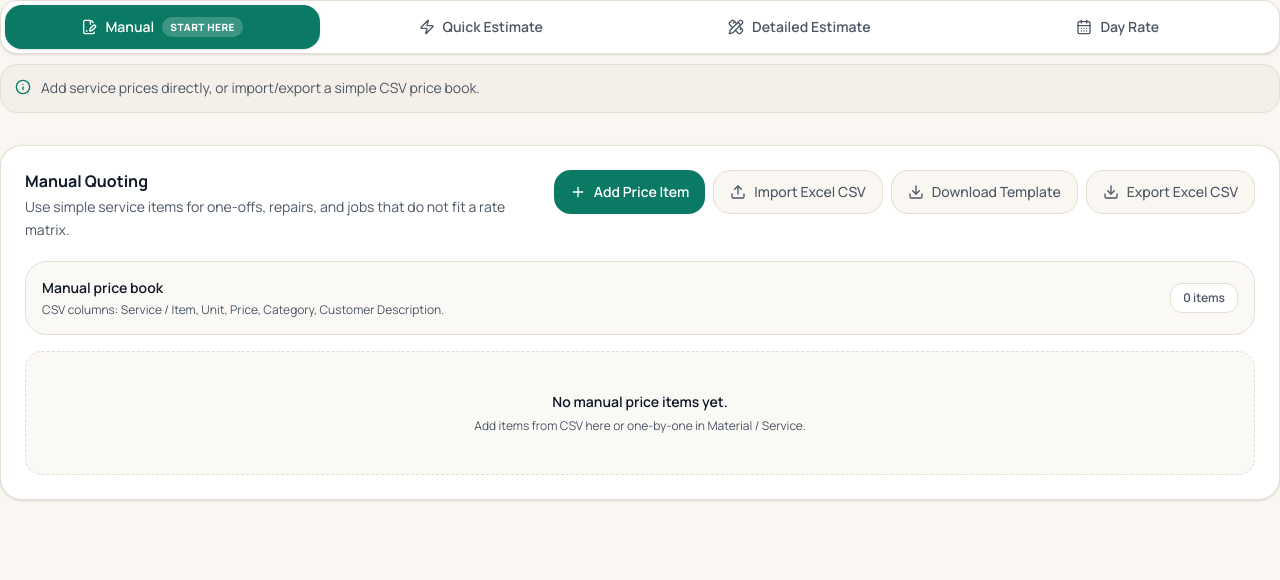
Test case: PriceRatesForm pricing setup › downloads the blank Manual CSV template with the supported headers
This screenshot has width=1280, height=580.
Click the tab "Manual Start here" at (162, 27), box x1=5 y1=5 x2=320 y2=49
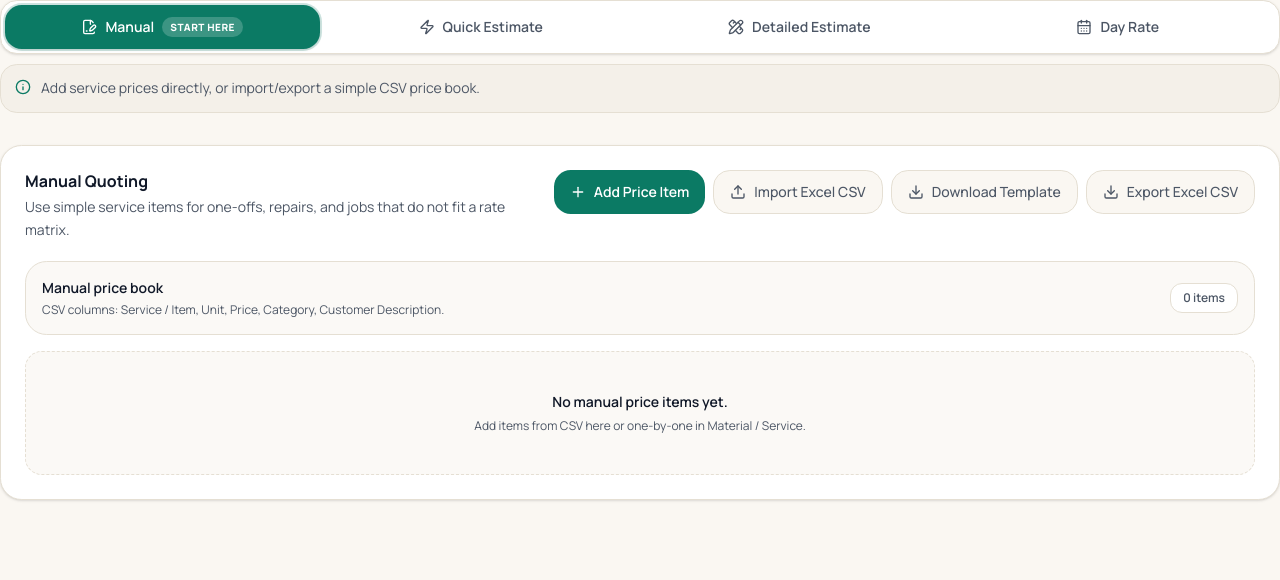
Click the button "Download Template" at (984, 192), box x1=891 y1=170 x2=1078 y2=214
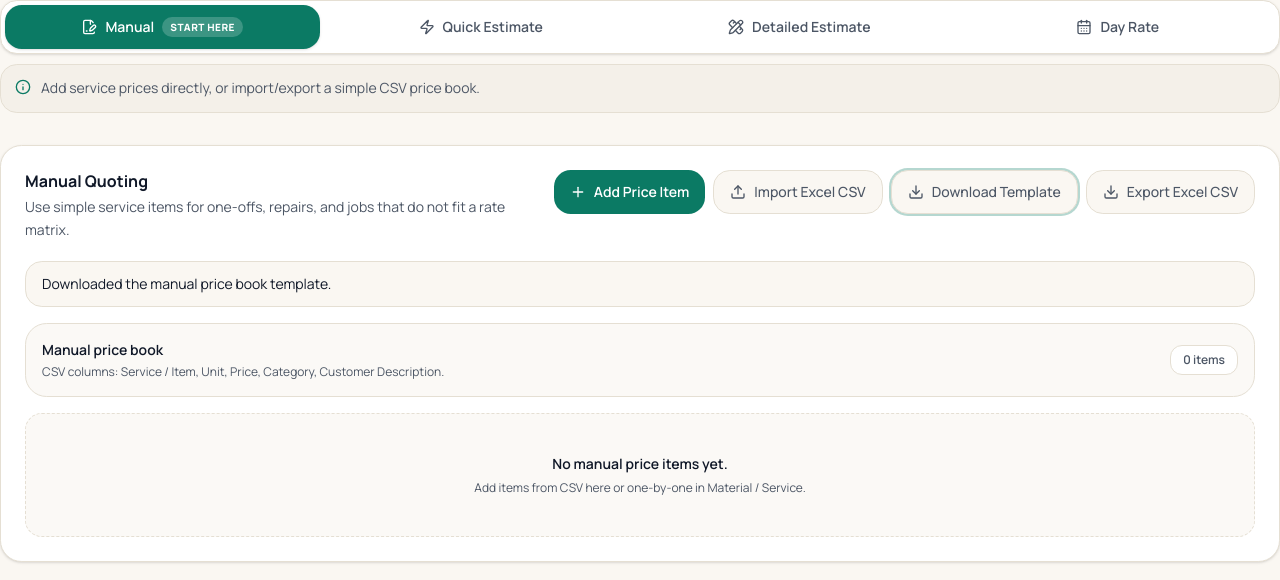
Expected: the text "Downloaded the manual price book template." is shown, x1=25 y1=261 x2=1255 y2=307
